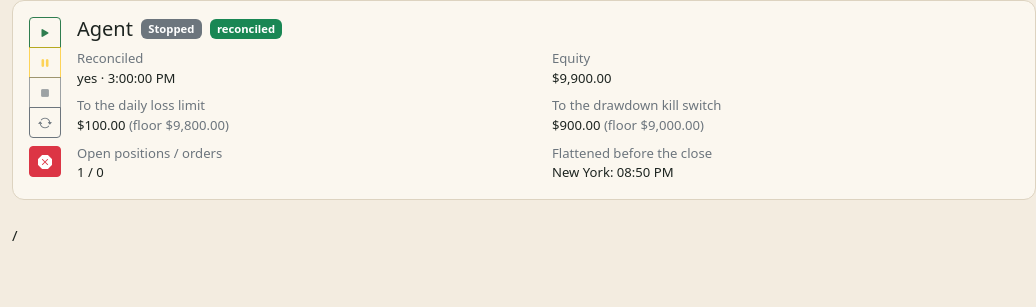
Test: AgentPanel missing setup (R22) › puts the fix next to a refused start: no budget (422)
The width and height of the screenshot is (1036, 307).
Click the button named "Start the agent".
click(45, 32)  # box [29,17,61,48]
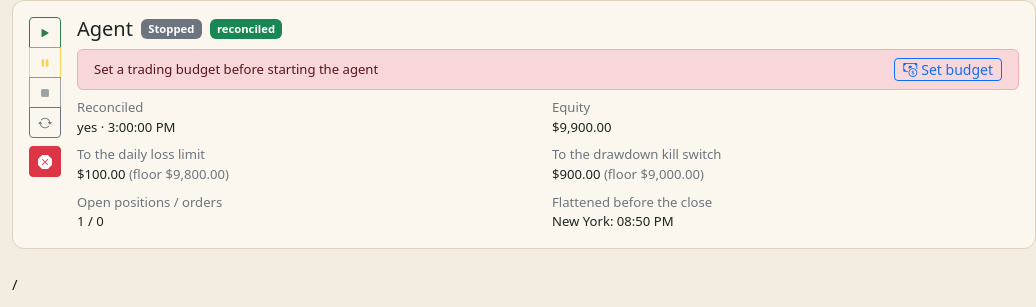
expect the message does not show "tradingBudgetCents": met, box [77,49,1019,90]
expect the message shows "Set a trading budget before starting the agent": met, box [94,60,378,78]
